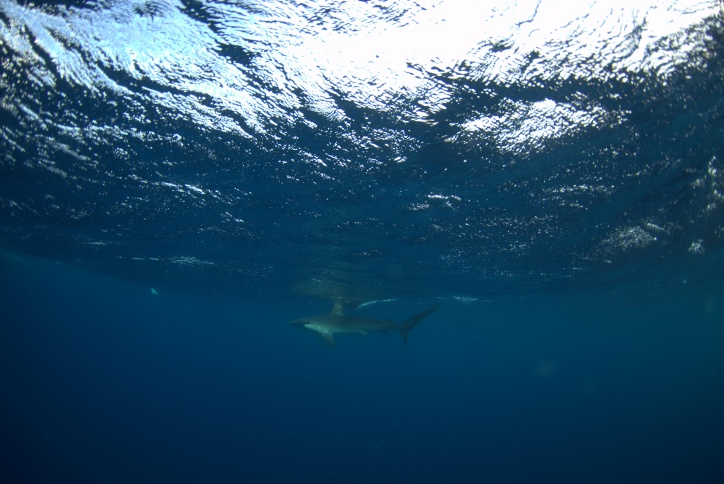Hammer: (283, 270, 465, 379)
